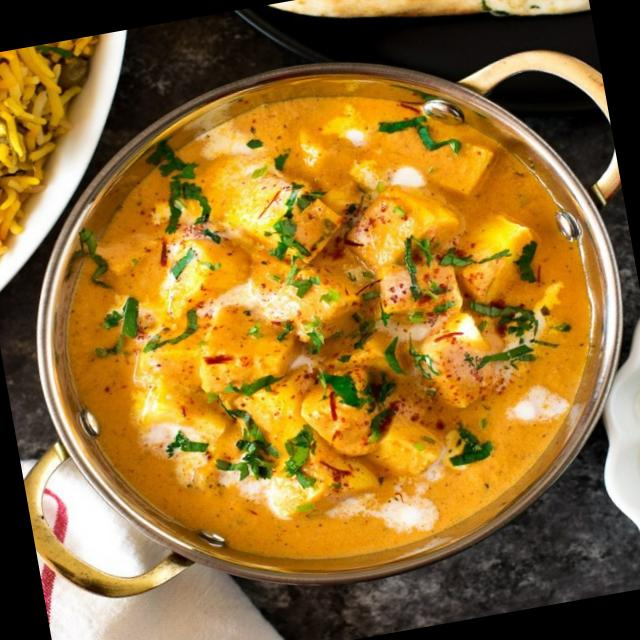ShahiPaneer: (25, 52, 623, 592)
